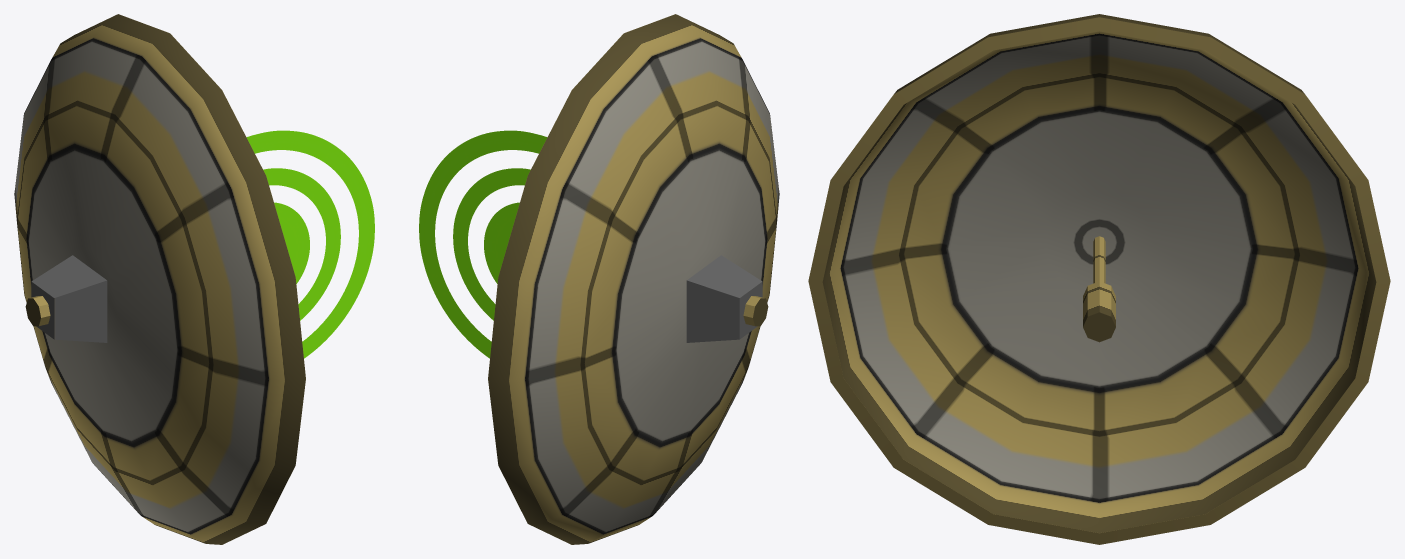
The model's file is Env_PowerUp_ThermalRadar.fbx.
3 renders of one model, left to right at view 1: azimuth 30°, elevation 25°; view 2: azimuth 150°, elevation 25°; view 3: azimuth 270°, elevation 25°, orthographic. The views are drawn at different scales.
Parts seen in each view (by area): view 1: polySurface55; view 2: polySurface55; view 3: polySurface55.
Part boxes in pixels (box(x1,y1,x2,y2)): polySurface55: box(14, 14, 374, 544); polySurface55: box(419, 14, 779, 544); polySurface55: box(808, 14, 1390, 544).
Size of the model in its own units: 1.93 by 2.6 by 2.6.
Materials: 1 (1 with a texture image).
